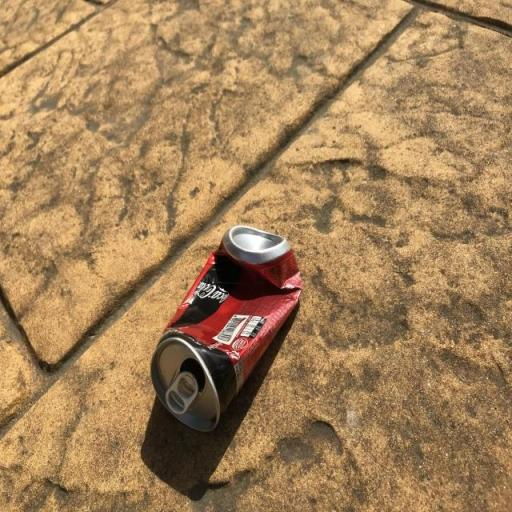metal: (145, 202, 311, 446)
